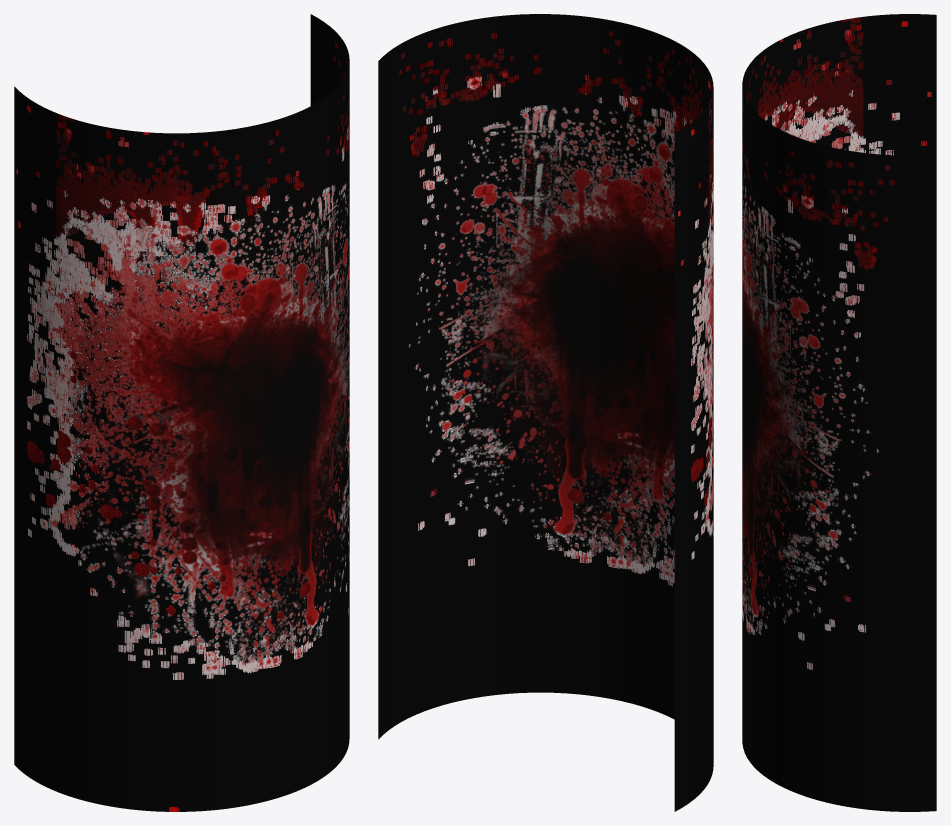
Rendered from bloodSpatter.fbx.
The picture shows the model from 3 angles, left to right: view 1: azimuth 30°, elevation 25°; view 2: azimuth 150°, elevation 25°; view 3: azimuth 270°, elevation 25°; orthographic projection. The views are drawn at different scales.
Visible parts, largest first — view 1: bloodSpatter; view 2: bloodSpatter; view 3: bloodSpatter.
Part boxes in pixels (left/top/right/bottom): bloodSpatter: left=14, top=14, right=349, bottom=811; bloodSpatter: left=378, top=14, right=713, bottom=811; bloodSpatter: left=742, top=14, right=936, bottom=811.
Size of the model in its own units: 18.56 by 40.11 by 10.75.
Materials: 1 (1 with a texture image).
